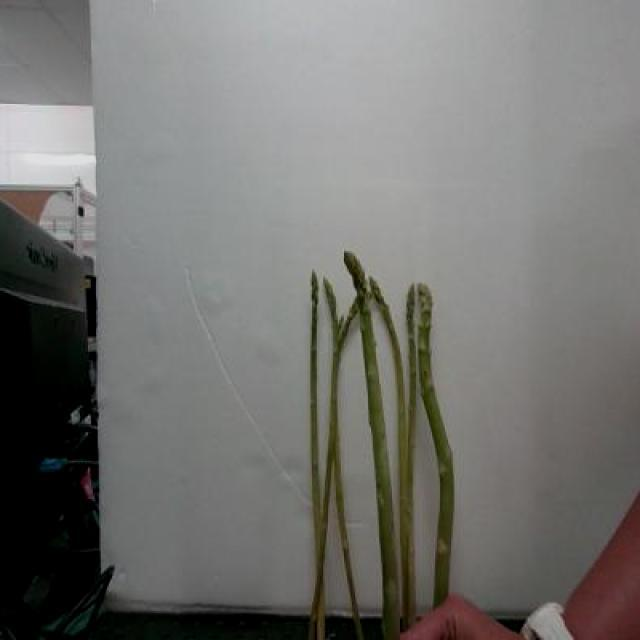aspargus: (337, 242, 407, 638), (407, 276, 459, 606)
